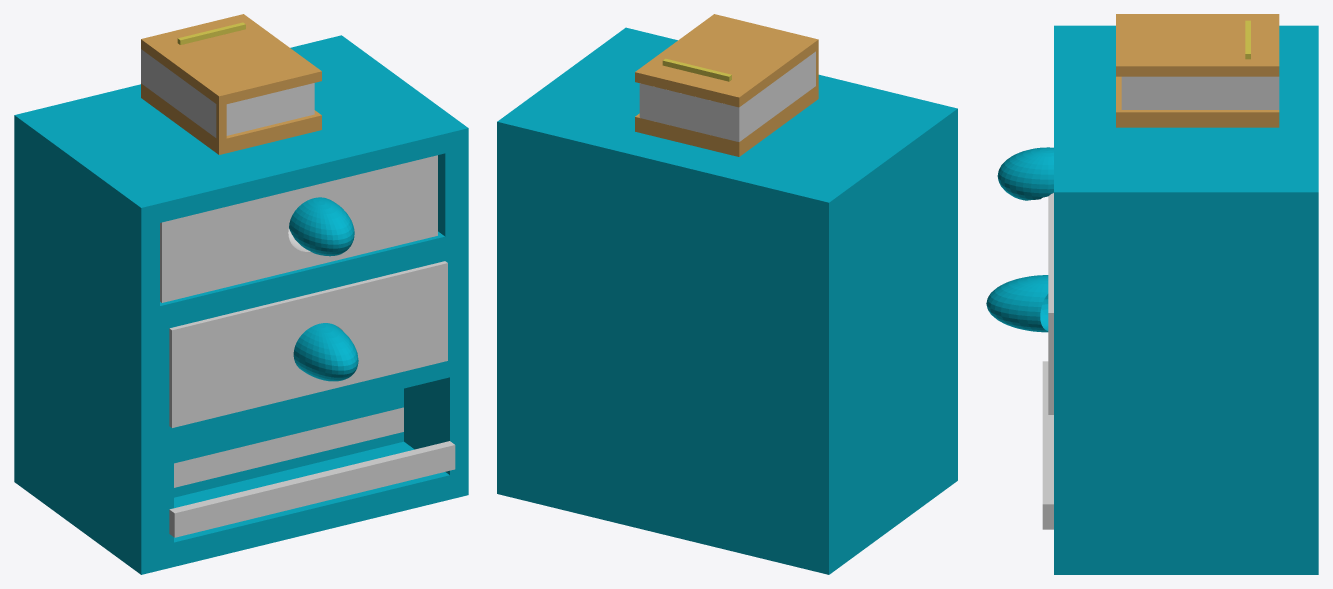
Rendered from project 149.glb.
The picture shows the model from 3 angles, left to right: view 1: azimuth 30°, elevation 25°; view 2: azimuth 150°, elevation 25°; view 3: azimuth 270°, elevation 25°; orthographic projection. The views are drawn at different scales.
Parts seen in each view (by area): view 1: Mesh_Mesh_head_geo.001_lambert2SG.001; view 2: Mesh_Mesh_head_geo.001_lambert2SG.001; view 3: Mesh_Mesh_head_geo.001_lambert2SG.001.
Boxes of the visible parts, box(x1,y1,x2,y2) form: Mesh_Mesh_head_geo.001_lambert2SG.001: box(14, 14, 468, 574); Mesh_Mesh_head_geo.001_lambert2SG.001: box(497, 14, 957, 574); Mesh_Mesh_head_geo.001_lambert2SG.001: box(986, 14, 1318, 574).
Size of the model in its own units: 70 by 89 by 59.
